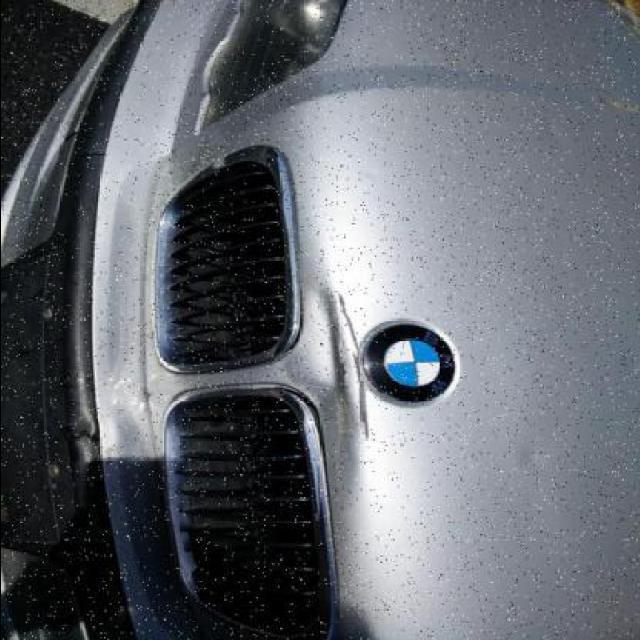bonnet-dent: (266, 77, 640, 568)
